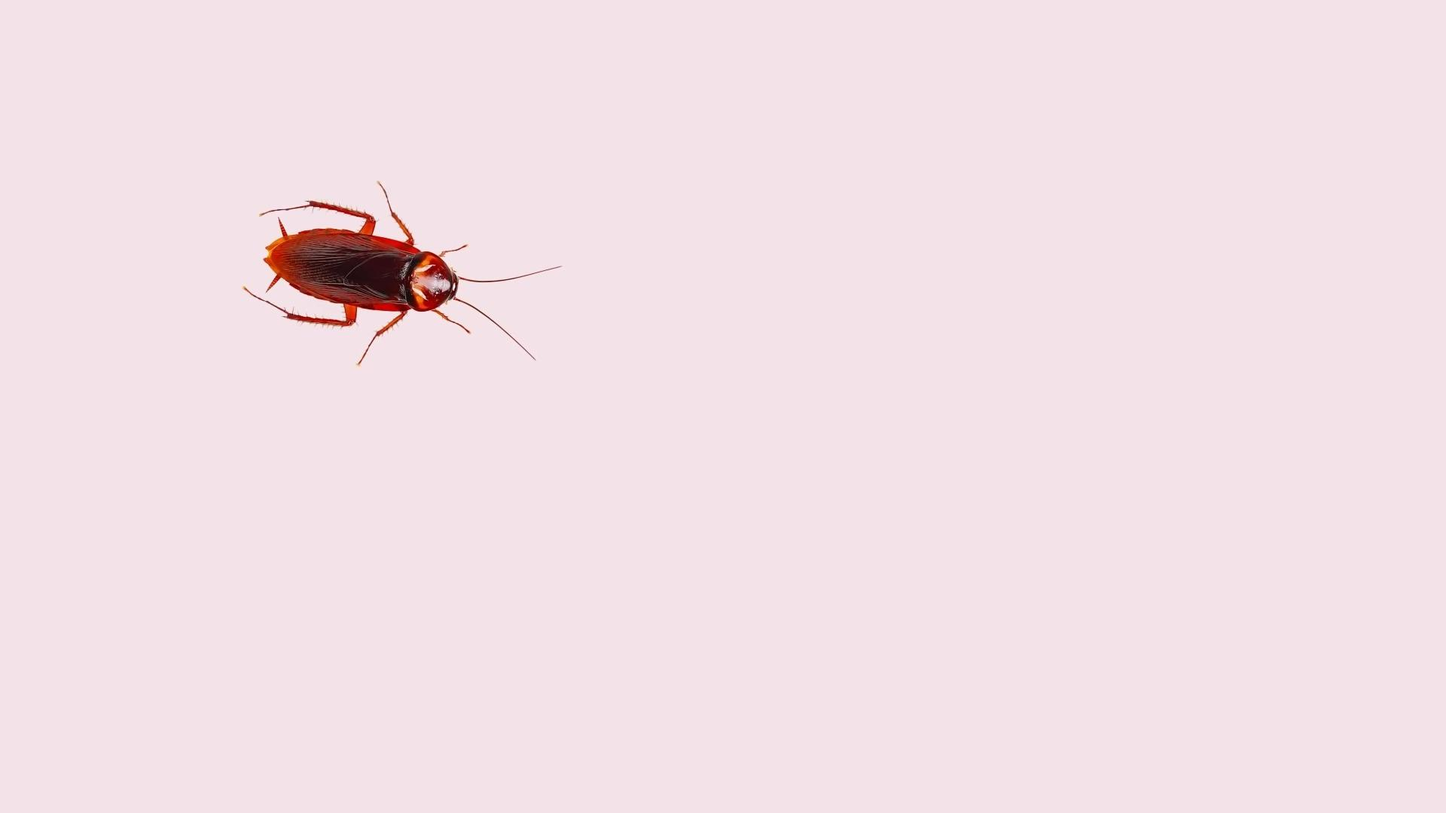cockroach: (243, 176, 561, 369)
